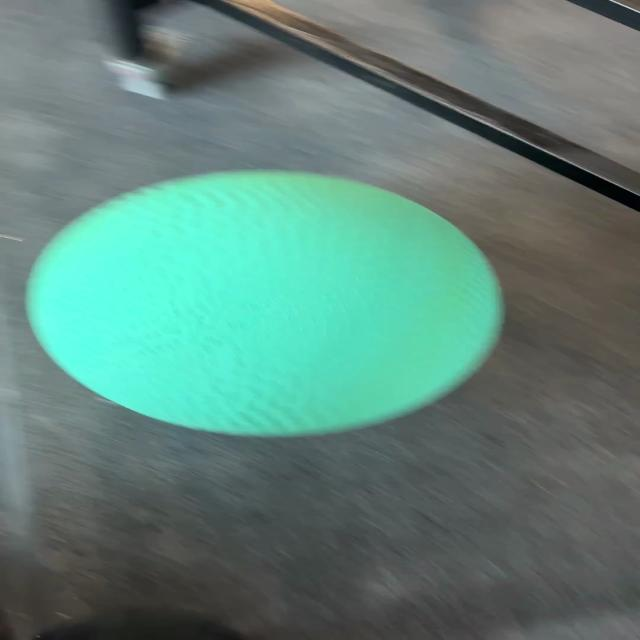Algae: (23, 168, 506, 438)
